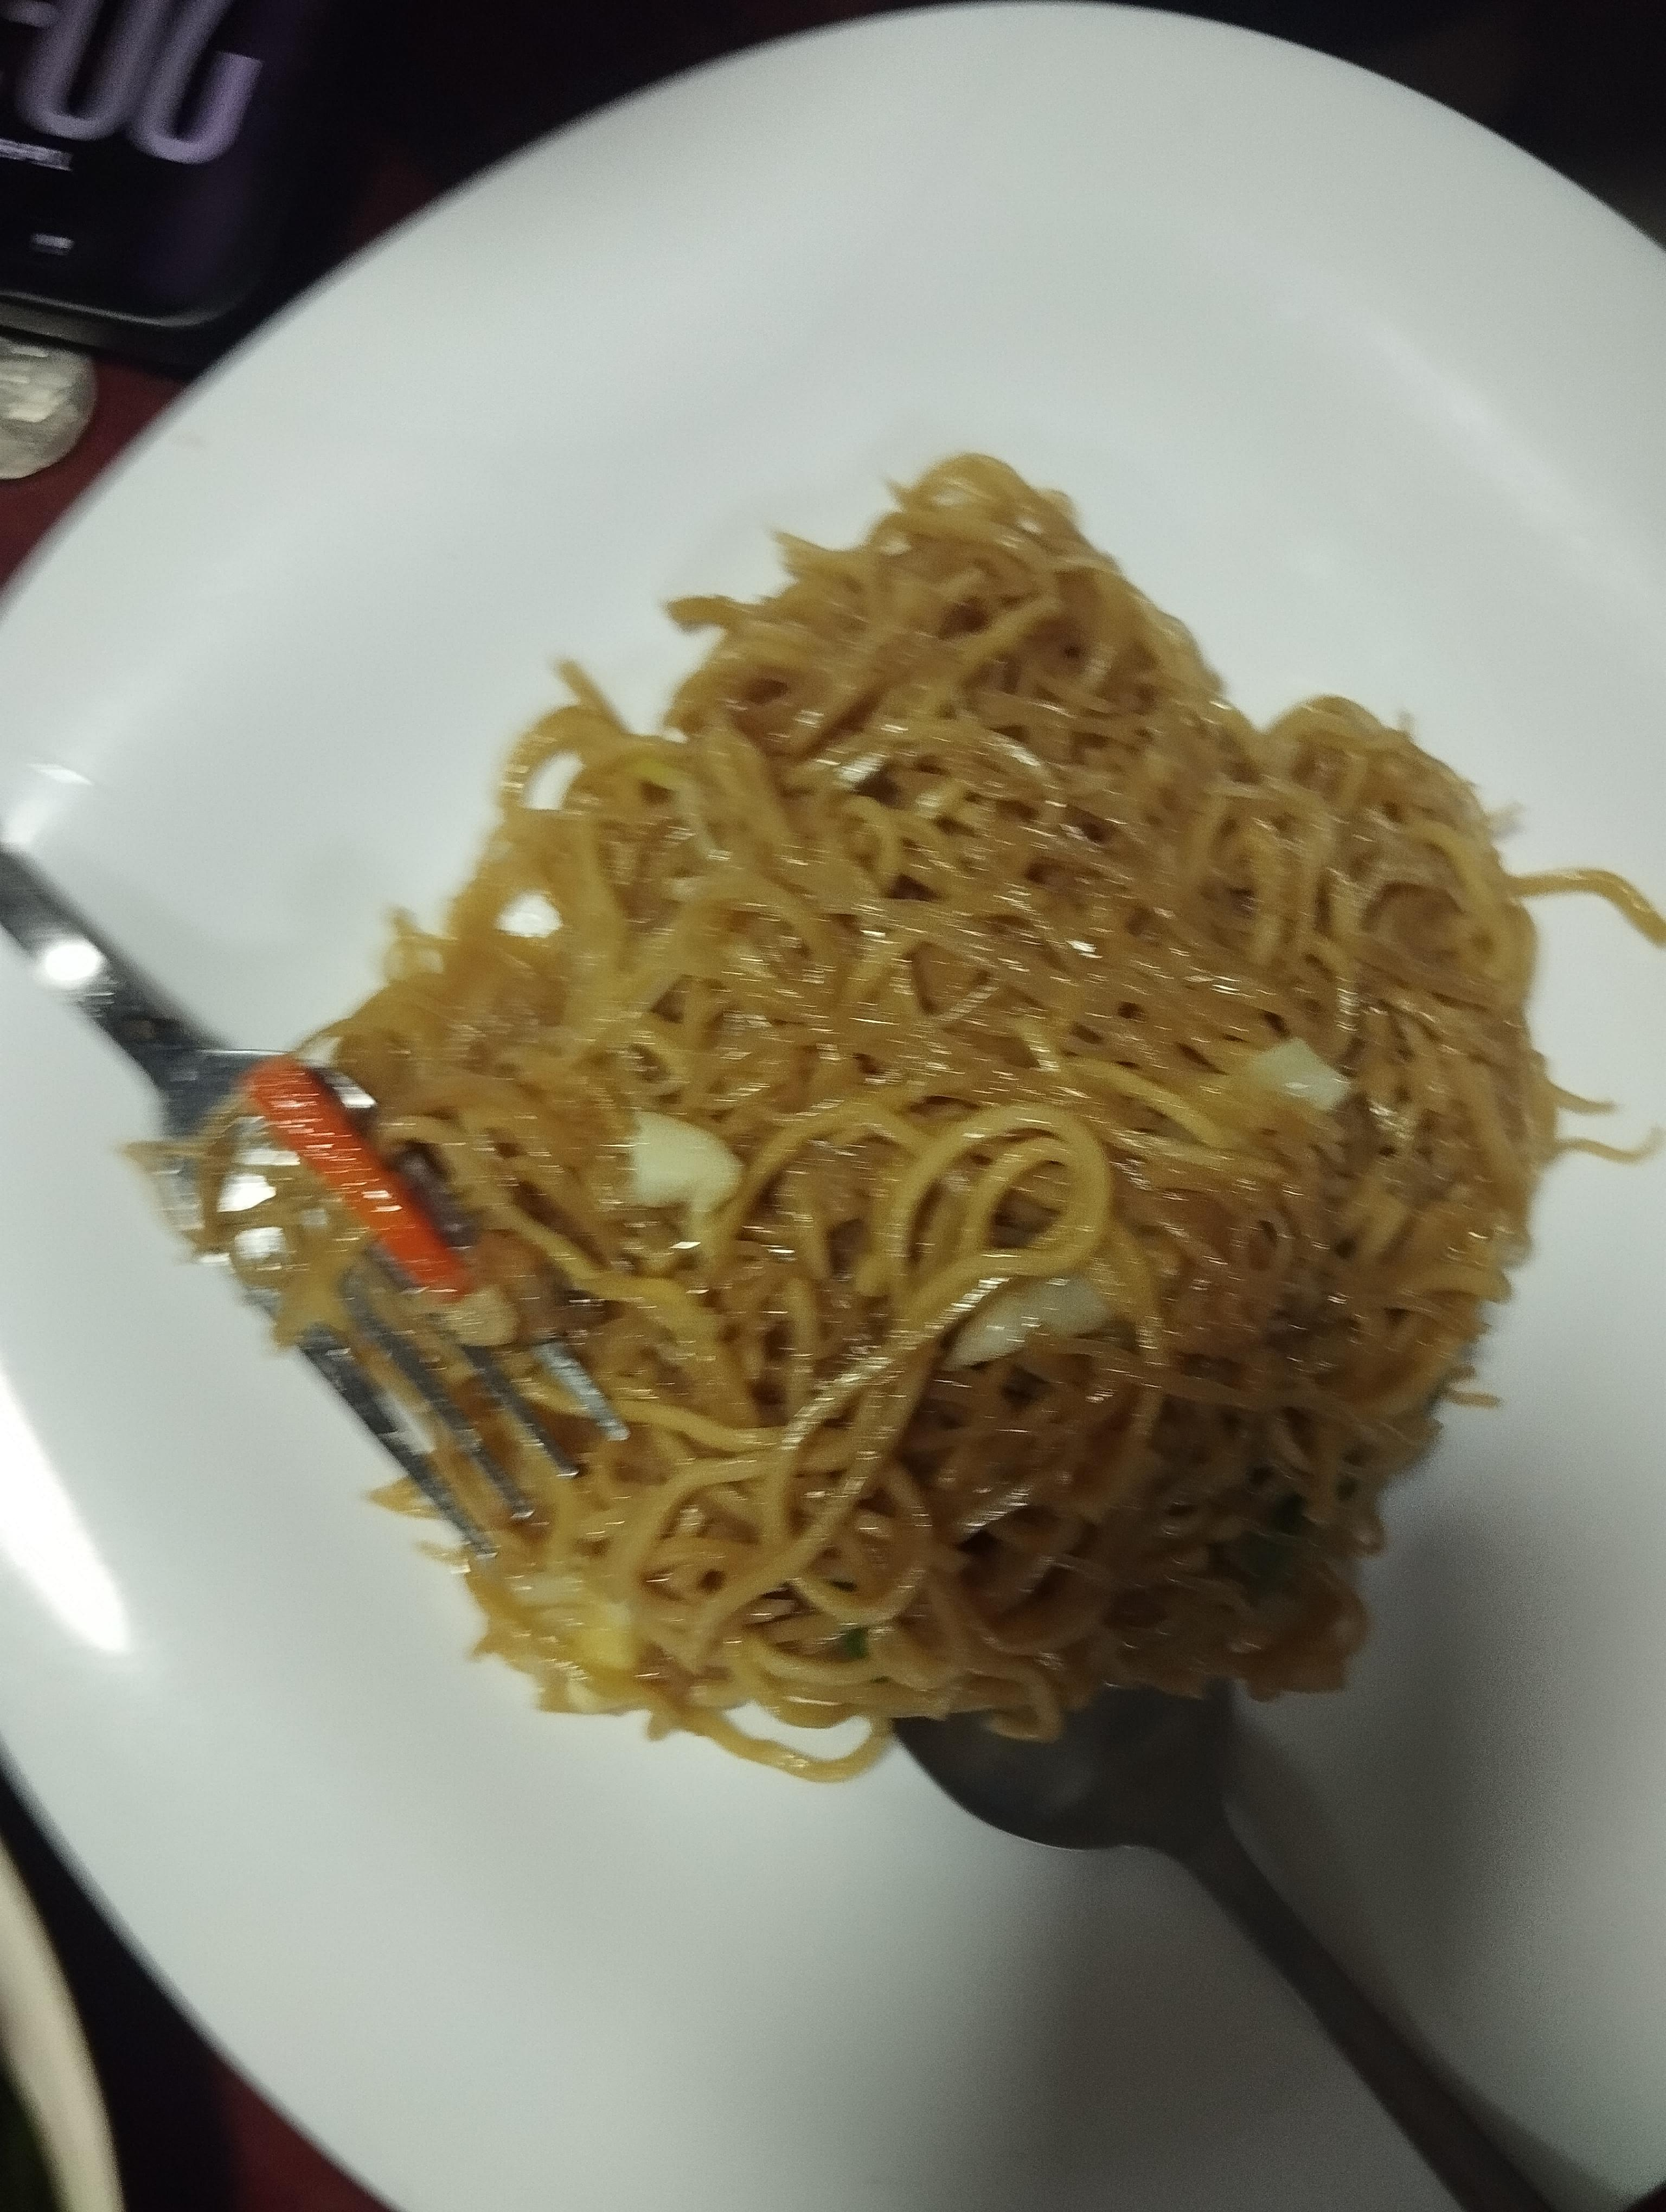pancit bihon: (205, 465, 1535, 1714)
